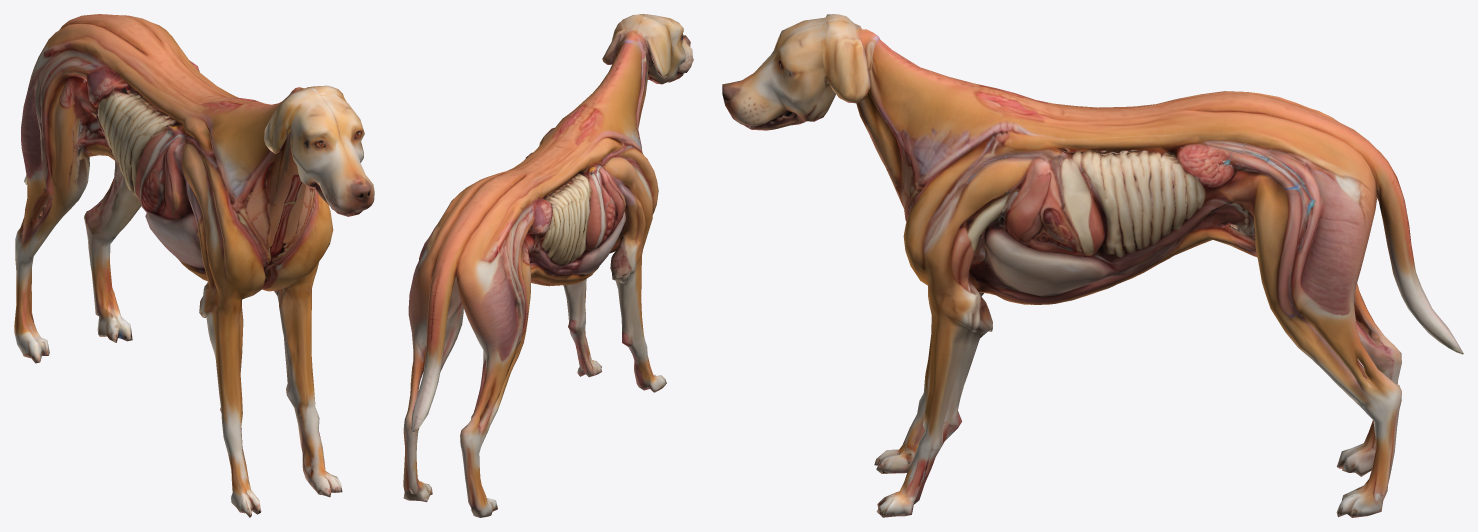
Rendered from cachorroOrgaos.glb.
3 views of the same model, side by side, from view 1: azimuth 30°, elevation 25°; view 2: azimuth 150°, elevation 25°; view 3: azimuth 270°, elevation 25° (orthographic). The views are drawn at different scales.
Bounding box in the file's own units: 0.4311 × 1.4 × 1.99.
Materials: 1 (1 with a texture image).
